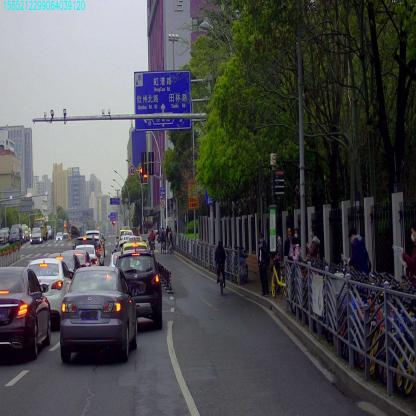traffic-light: (140, 168, 144, 184), (144, 166, 147, 183)
